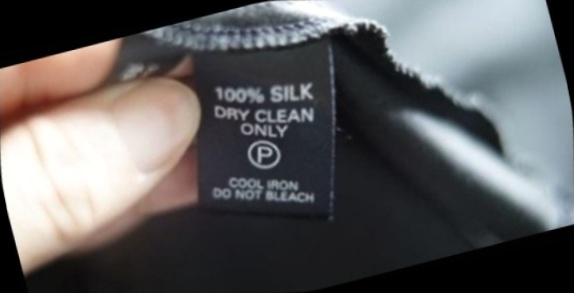dry_clean_any_solvent_except_trichloroethylene: (237, 126, 294, 181)
